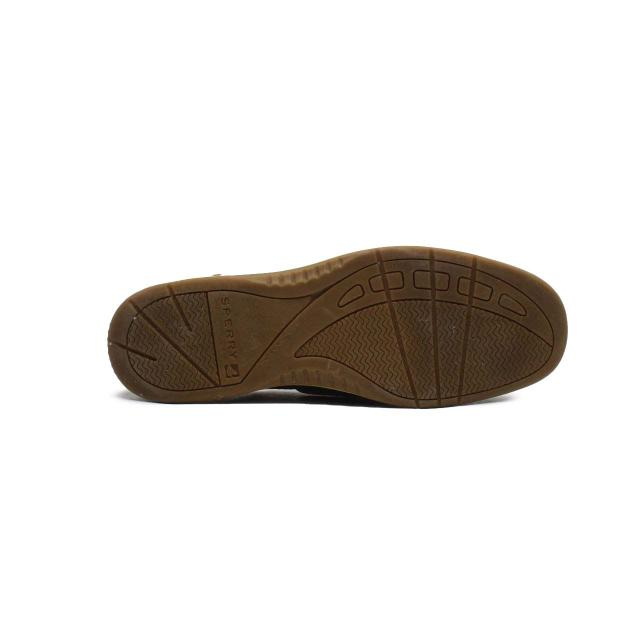outersole: (105, 248, 569, 409)
